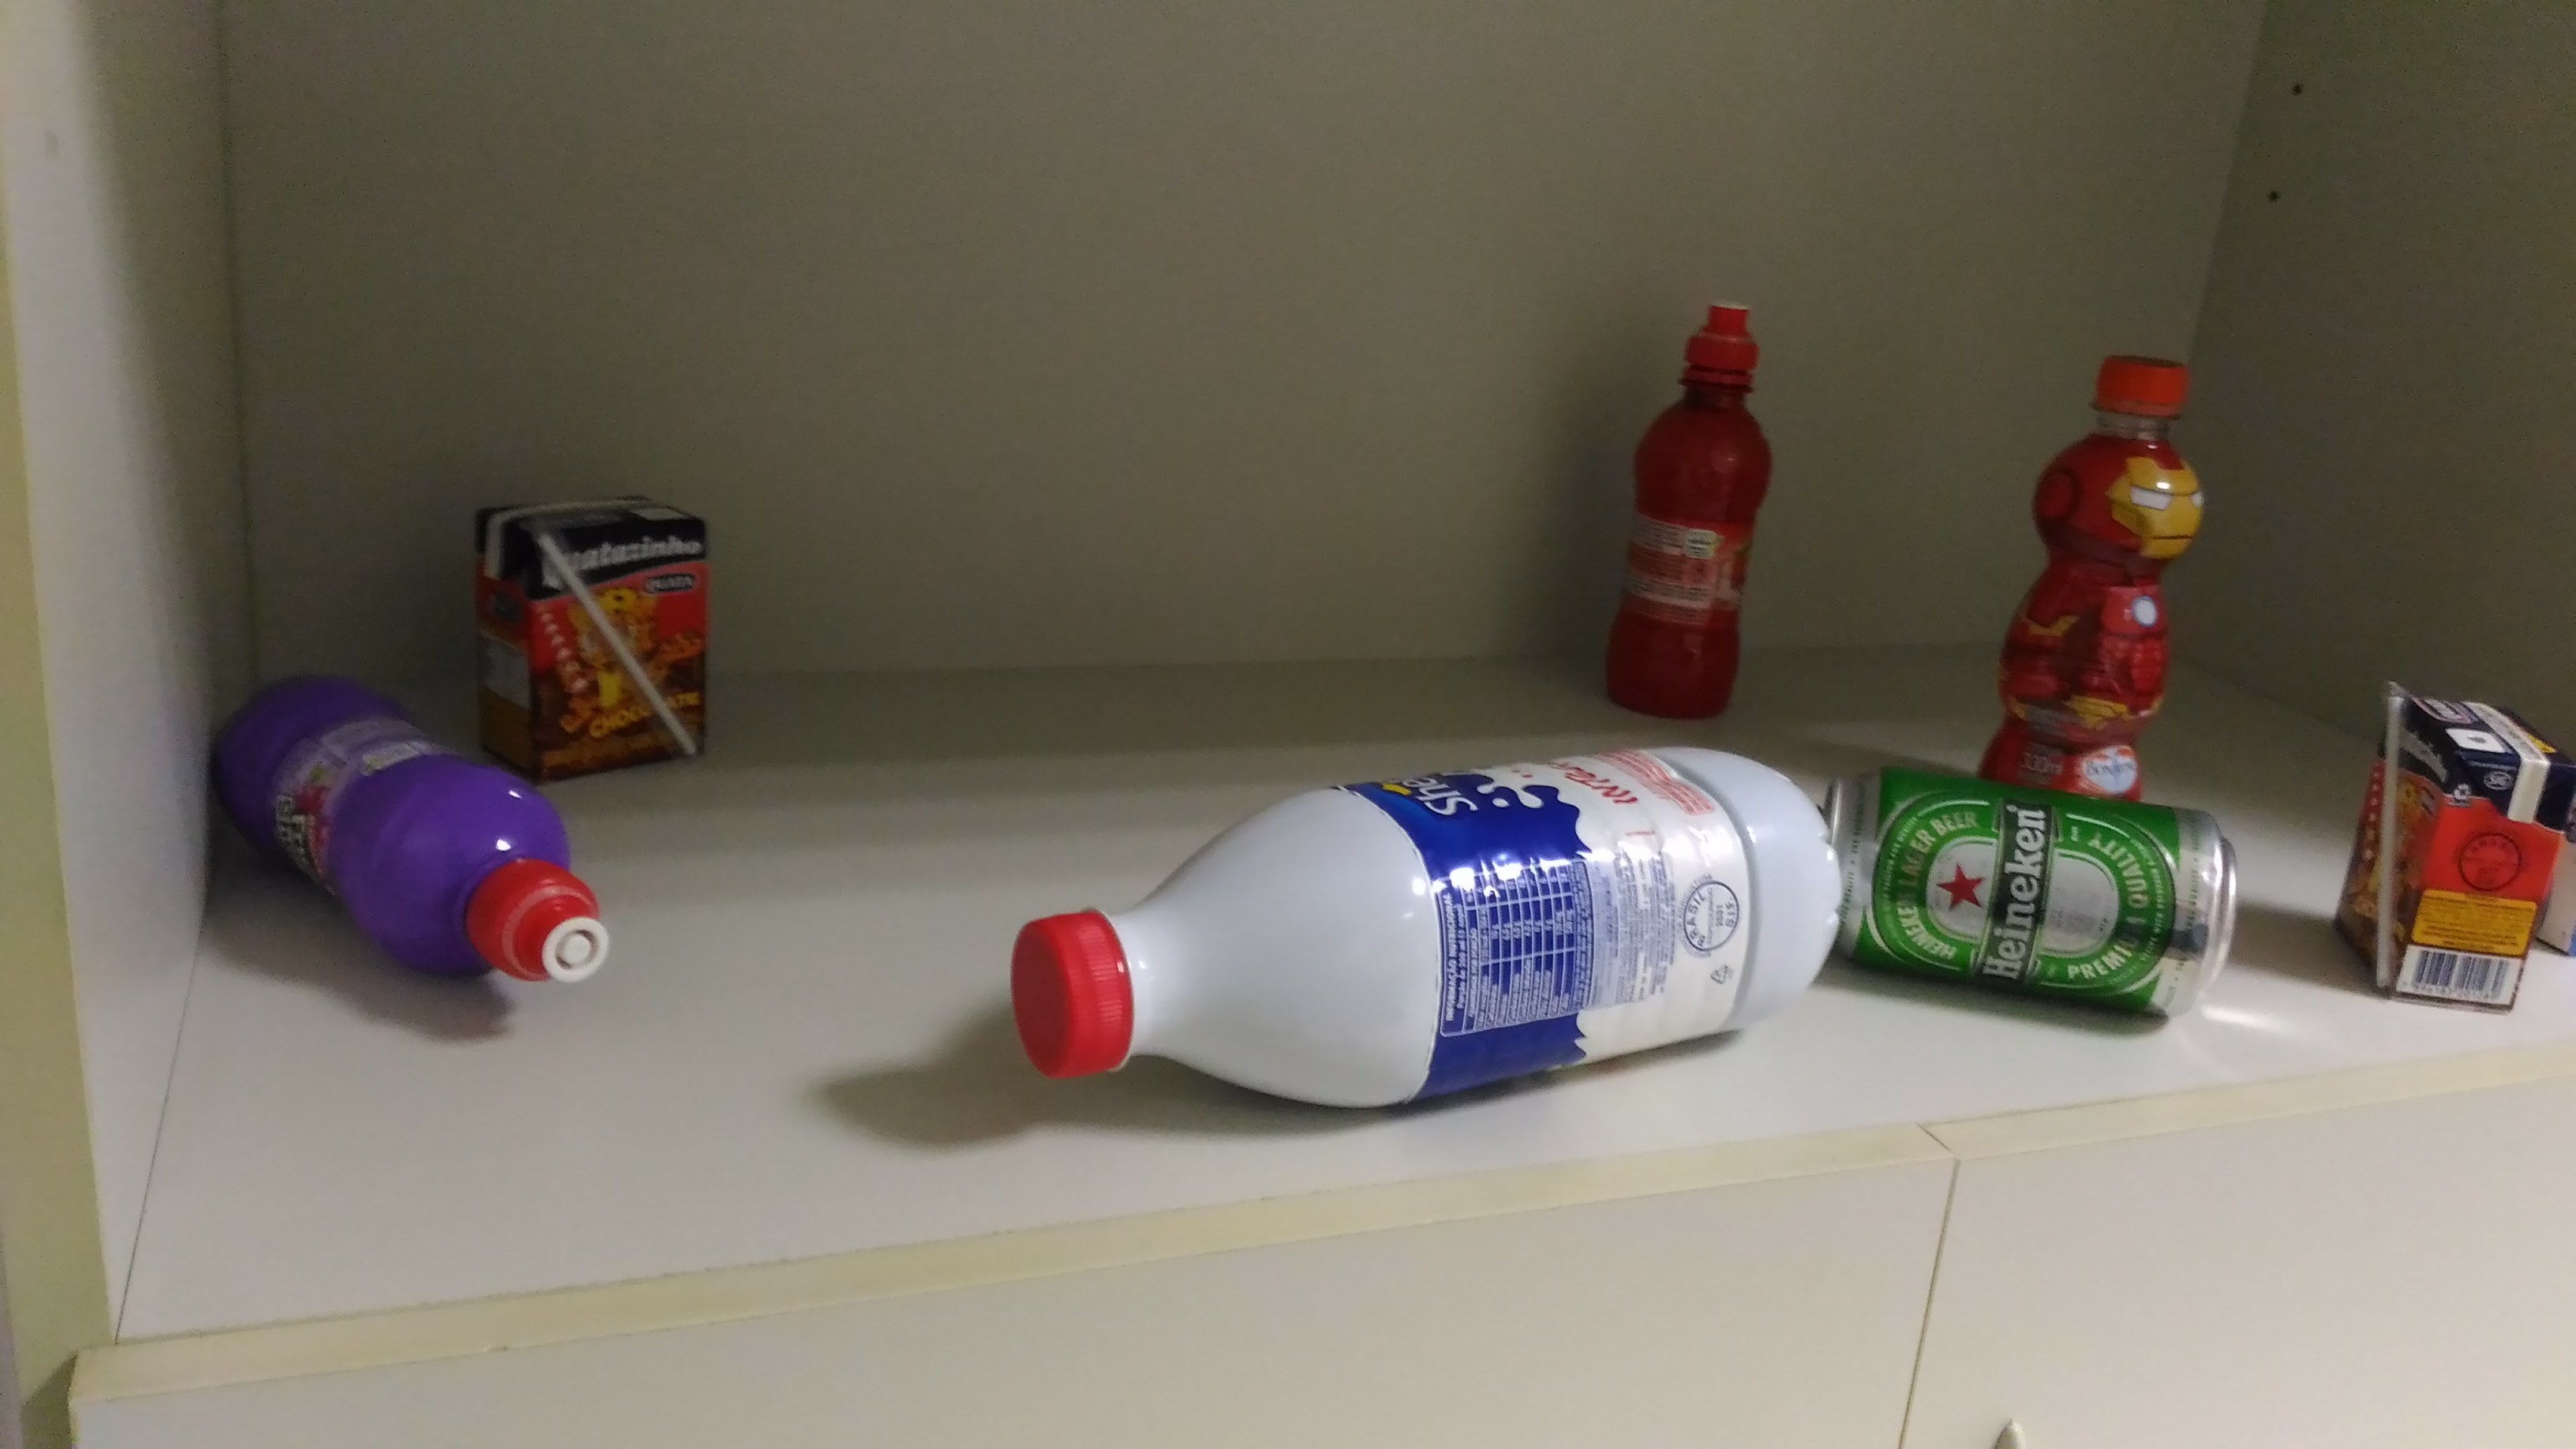chocolate_milk: (2331, 687, 2576, 1017), (462, 483, 718, 788)
heineken: (1837, 746, 2252, 1033)
iron_man: (1973, 343, 2207, 793)
milk_bottle: (1006, 739, 1849, 1126)
purple_juice: (200, 667, 626, 994)
red_juice: (1601, 280, 1781, 734)
